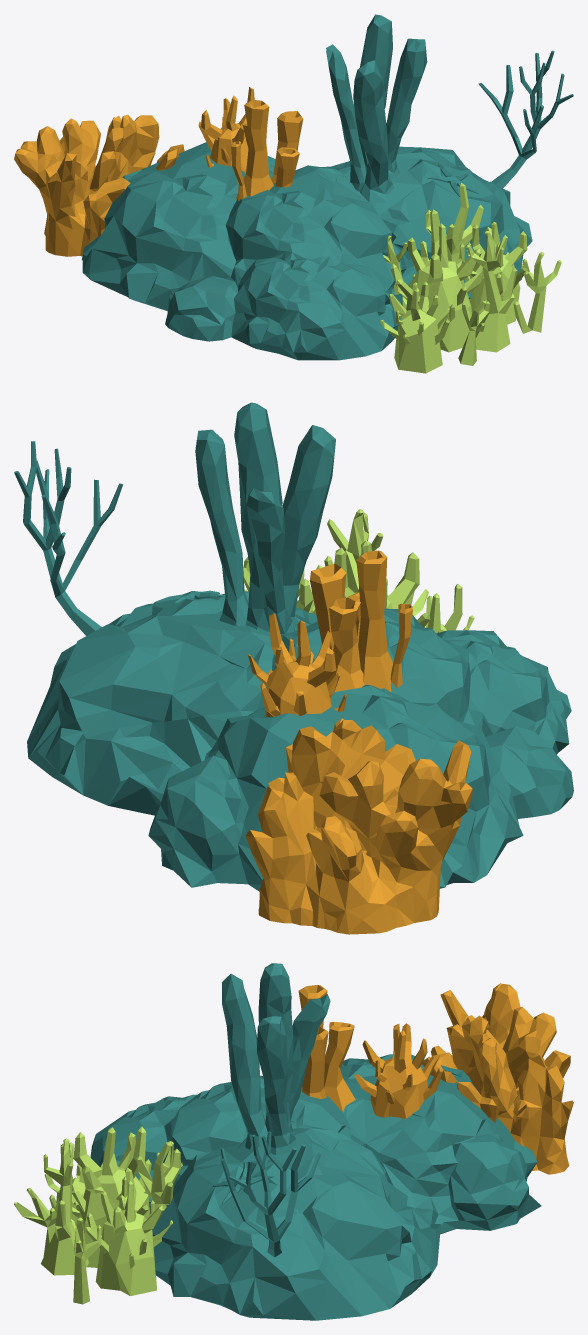
The model's file is SM_Sea_Vegetation_Corals.fbx.
3 views of the same model, one above another, from view 1: azimuth 30°, elevation 25°; view 2: azimuth 150°, elevation 25°; view 3: azimuth 270°, elevation 25° (orthographic). The views are drawn at different scales.
Visible parts, largest first — view 1: sea-vegetation-corals; view 2: sea-vegetation-corals; view 3: sea-vegetation-corals.
Part boxes in pixels (x1,y1,x2,y2): sea-vegetation-corals: (14,14,573,373); sea-vegetation-corals: (14,402,573,934); sea-vegetation-corals: (14,963,573,1320).
Size of the model in its own units: 3.32 by 2 by 3.29.
